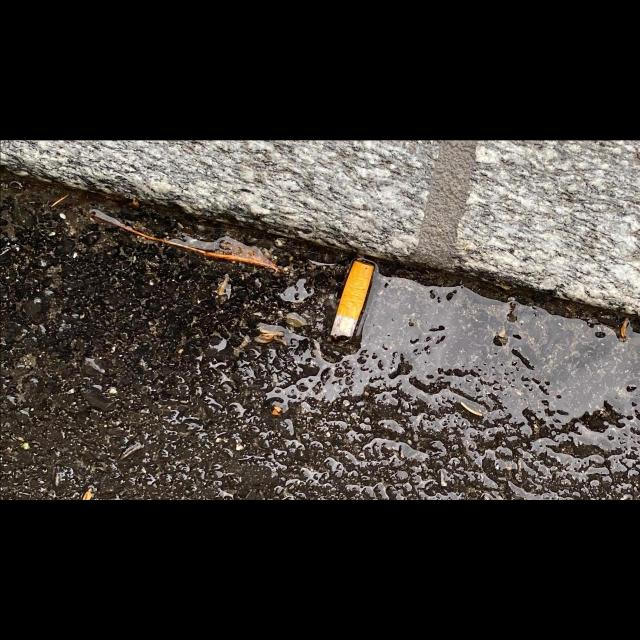cigarette: (332, 257, 374, 342)
